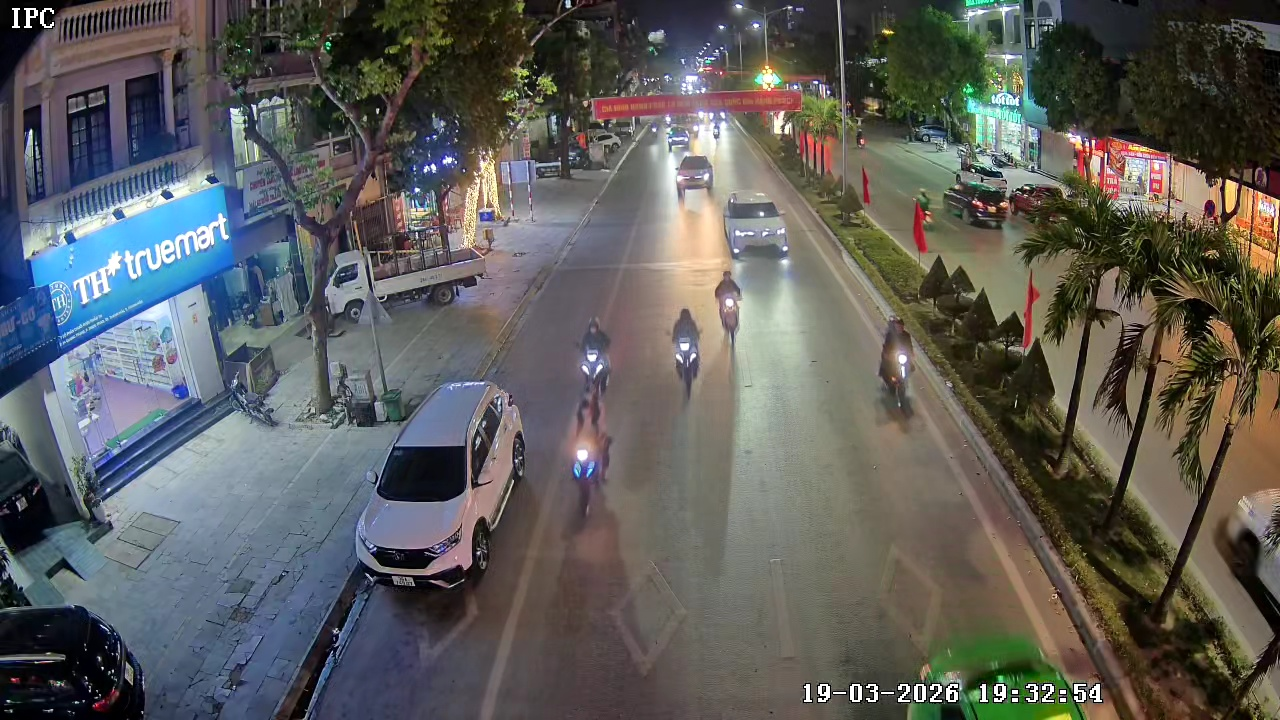car: (354, 378, 529, 594), (0, 603, 150, 719), (722, 189, 789, 259), (944, 170, 1014, 231), (675, 153, 713, 190)
motorbike: (558, 388, 628, 522), (874, 314, 919, 418), (668, 305, 705, 400), (575, 315, 615, 393), (713, 266, 744, 340)
